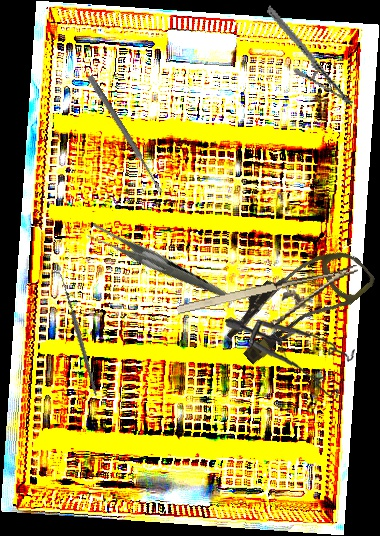Cannula: (217, 226, 378, 379)
Dressing Forceps: (85, 193, 227, 334)
Hook Surgical: (26, 270, 125, 397)
Needle Holder: (175, 264, 366, 345), (245, 4, 375, 109)
Speculum: (225, 312, 358, 404)
Surgical Spoon: (86, 74, 165, 195)
